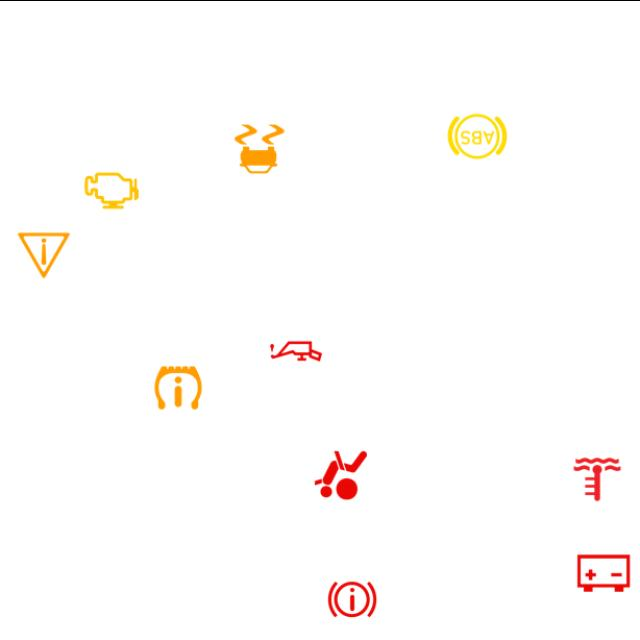Anti Lock Braking System: (446, 104, 510, 168)
Braking System Issue: (320, 566, 384, 630)
Charging System Issue: (572, 540, 636, 604)
Check Engine: (80, 158, 144, 222)
Electronic Stability Problem -ESP-: (228, 116, 292, 180)
Engine Overheating Warning Light: (566, 446, 630, 511)
Low Engine Oil Warning Light: (264, 318, 328, 382)
Low Tire Pressure Warning Light: (146, 354, 210, 418)
Master warning light: (12, 222, 76, 286)
SRS-Airbag: (309, 442, 373, 507)
